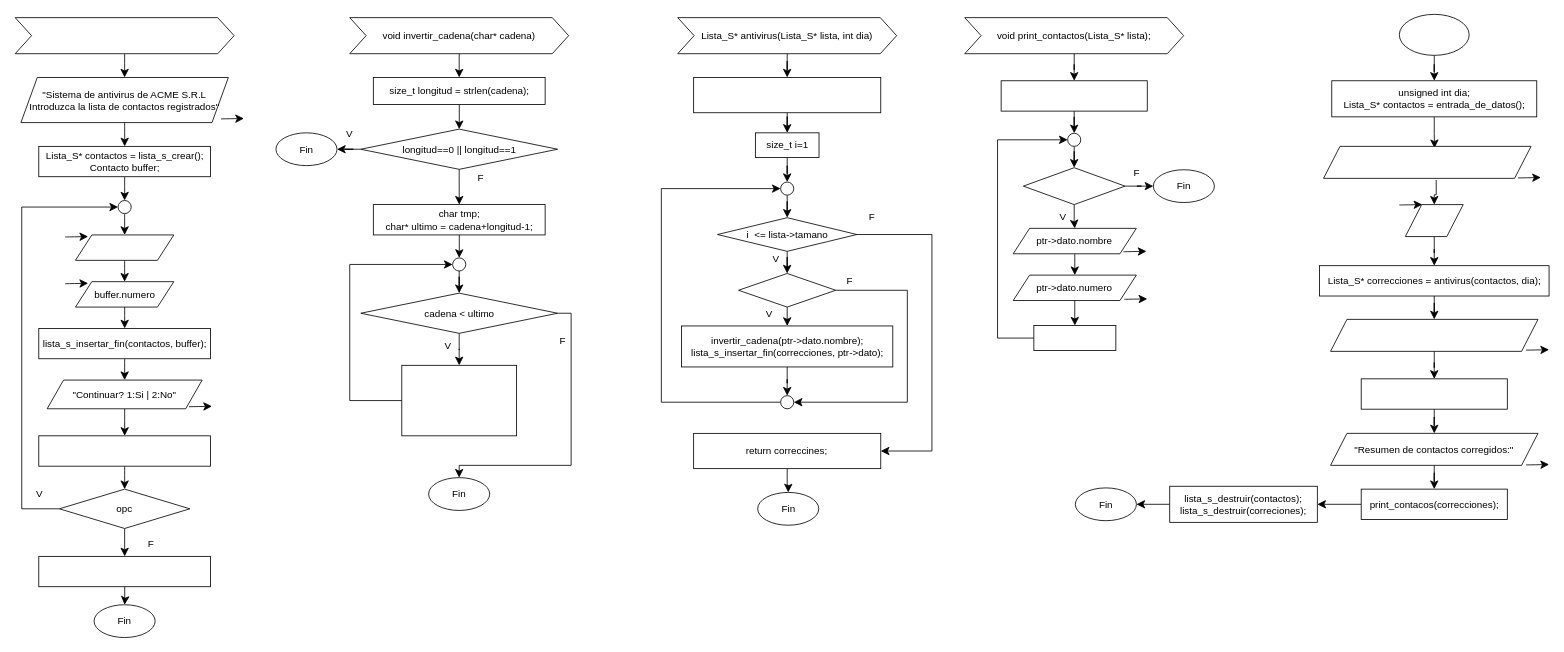
Image size: 1564x652. Some labels were removed from this diagram. The centre of each missing label's shape, as x and y in pixels:
"Lista de contactos corregidas:": pixel 1434 335
"Que dia del mes ocurrio el incidente?": pixel 1427 162
buffer.nombre: pixel 124 247
dia: pixel 1433 220
i%dia==0: pixel 787 290
Iniciio: pixel 1434 34
Lista_S* correcciones = lista_s_crear(); Nodo_S* ptr=lista->cabeza;: pixel 787 95
Lista_S* entrada_de_datos(void): pixel 124 35
Nodo_S* ptr=lista->cabeza;: pixel 1073 95
opc = validar_int_en_rango(1,2);: pixel 124 450
print_contactos(contactos);: pixel 1433 393
ptr!=NULL: pixel 1074 186
ptr=ptr->sig;: pixel 1074 338
return contactos;: pixel 124 571
tmp = *cadena; *cadena = *ultimo; *ultimo=tmp; ++cadena; --ultimo: pixel 459 400
